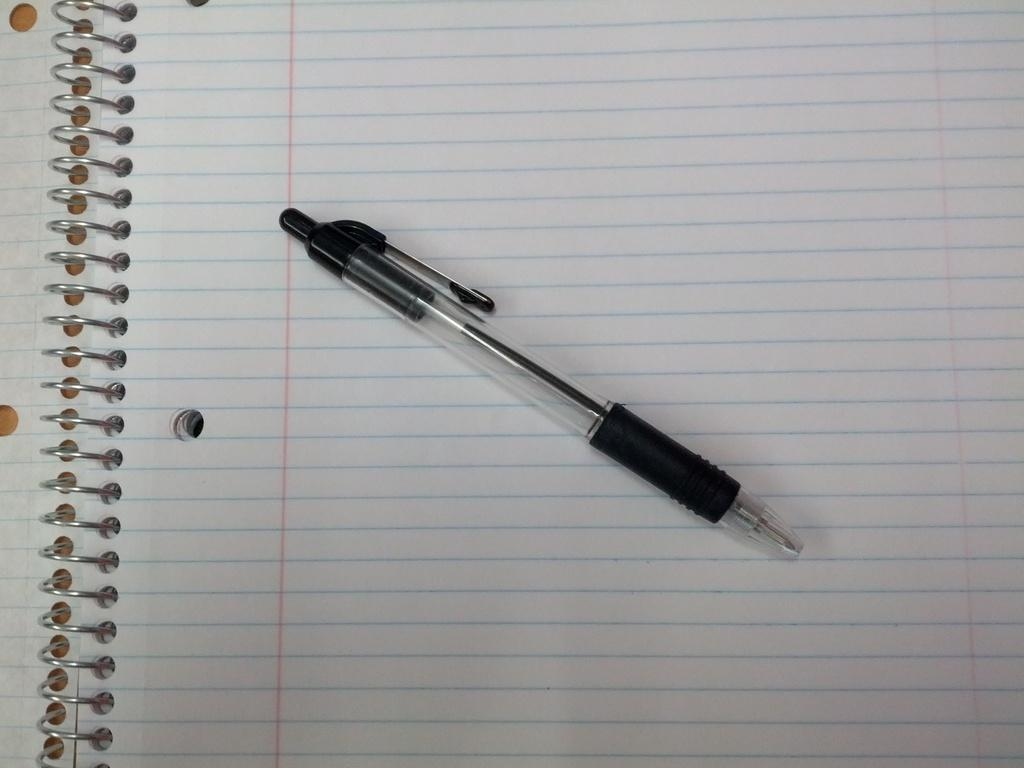pen: (273, 177, 819, 561)
